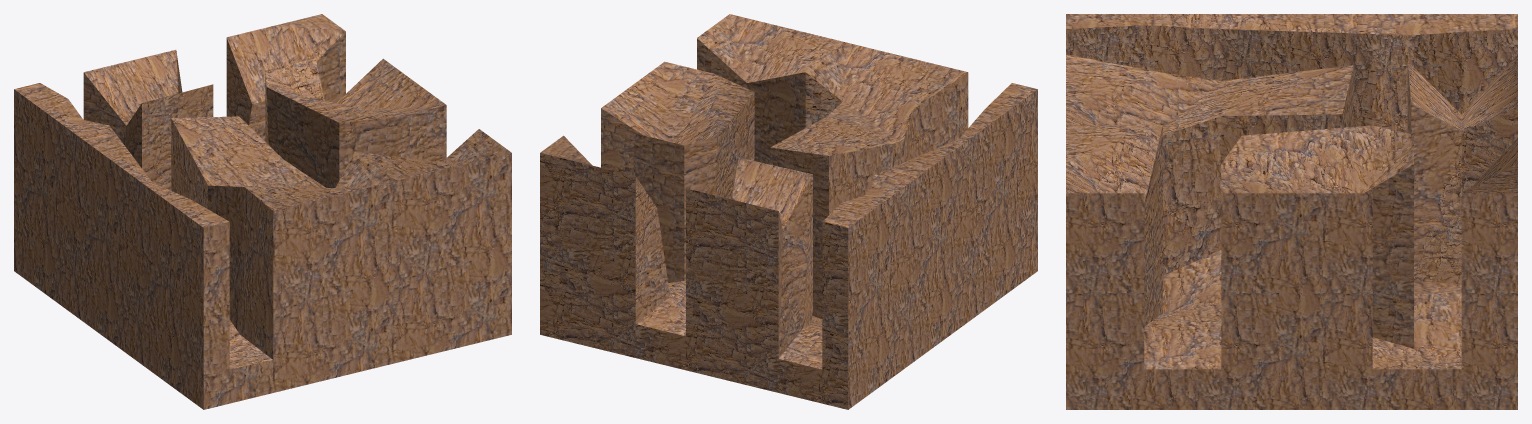
Rendered from Canyon1.fbx.
3 views of the same model, side by side, from view 1: azimuth 30°, elevation 25°; view 2: azimuth 150°, elevation 25°; view 3: azimuth 270°, elevation 25° (orthographic). The views are drawn at different scales.
Visible parts, largest first — view 1: Canyon1; view 2: Canyon1; view 3: Canyon1.
Part boxes in pixels (x1=…): Canyon1: x1=14, y1=14, x2=511, y2=409; Canyon1: x1=540, y1=14, x2=1037, y2=409; Canyon1: x1=1066, y1=14, x2=1517, y2=409.
Size of what is drawn, in the model's own units: 22.23 by 12.55 by 23.7.
Materials: 1 (1 with a texture image).
